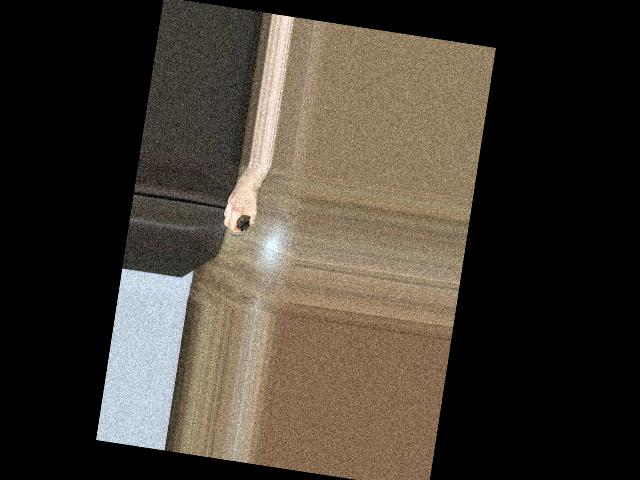beet: (231, 213, 251, 239)
